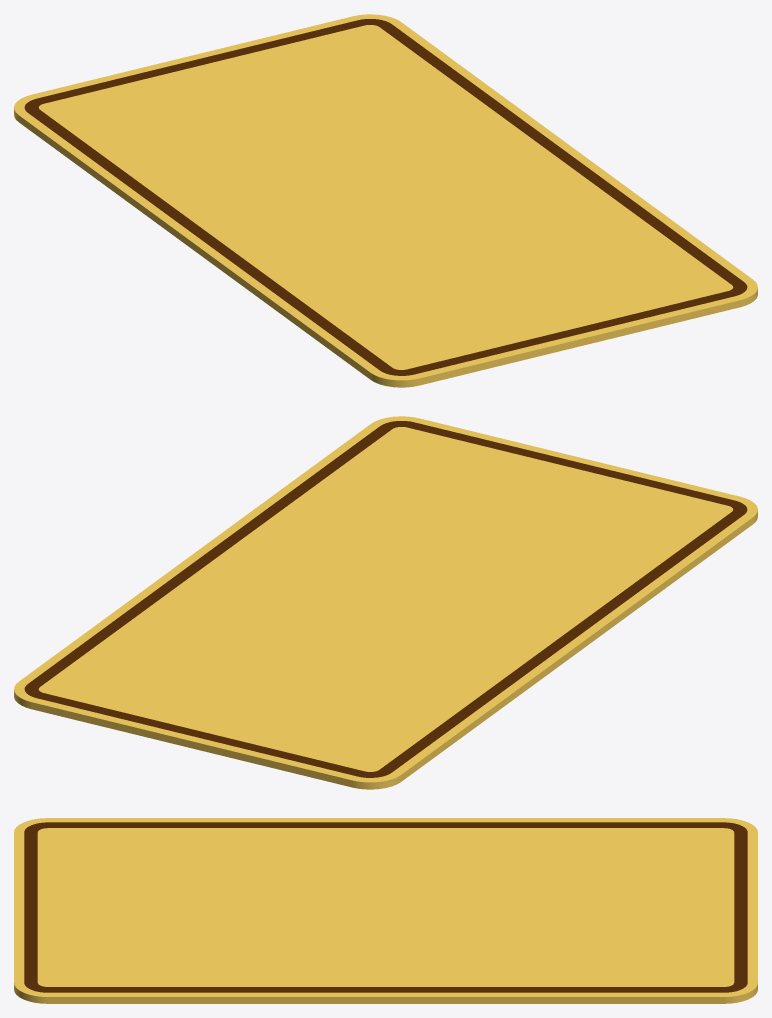
Rendered from r2c_cardfront.fbx.
The picture shows the model from 3 angles, top to bottom: view 1: azimuth 30°, elevation 25°; view 2: azimuth 150°, elevation 25°; view 3: azimuth 270°, elevation 25°; orthographic projection. The views are drawn at different scales.
Parts seen in each view (by area): view 1: 개체_3, 개체_2, 개체_1; view 2: 개체_3, 개체_2, 개체_1; view 3: 개체_3, 개체_2, 개체_1.
Boxes of the visible parts, <box> form: 개체_3: <box>38,25,733,369</box>; 개체_2: <box>14,14,757,387</box>; 개체_1: <box>24,19,747,375</box>; 개체_3: <box>38,427,733,771</box>; 개체_2: <box>14,416,757,789</box>; 개체_1: <box>24,421,747,777</box>; 개체_3: <box>37,828,734,986</box>; 개체_2: <box>14,818,757,1003</box>; 개체_1: <box>24,822,747,992</box>.
Bounding box in the file's own units: 11.22 × 0.2 × 19.71.
